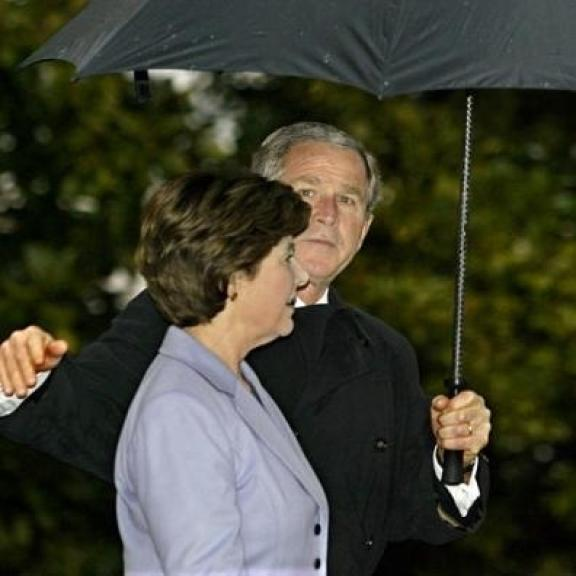face: (263, 127, 378, 285), (208, 201, 303, 353)
